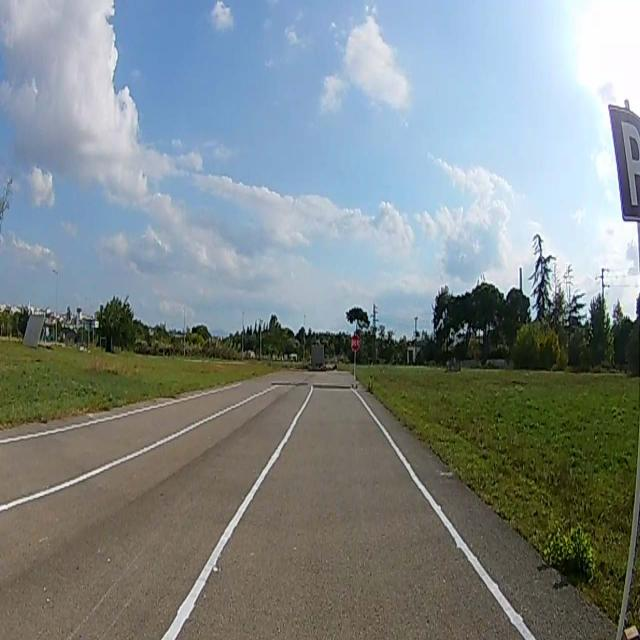park: (609, 106, 640, 221)
